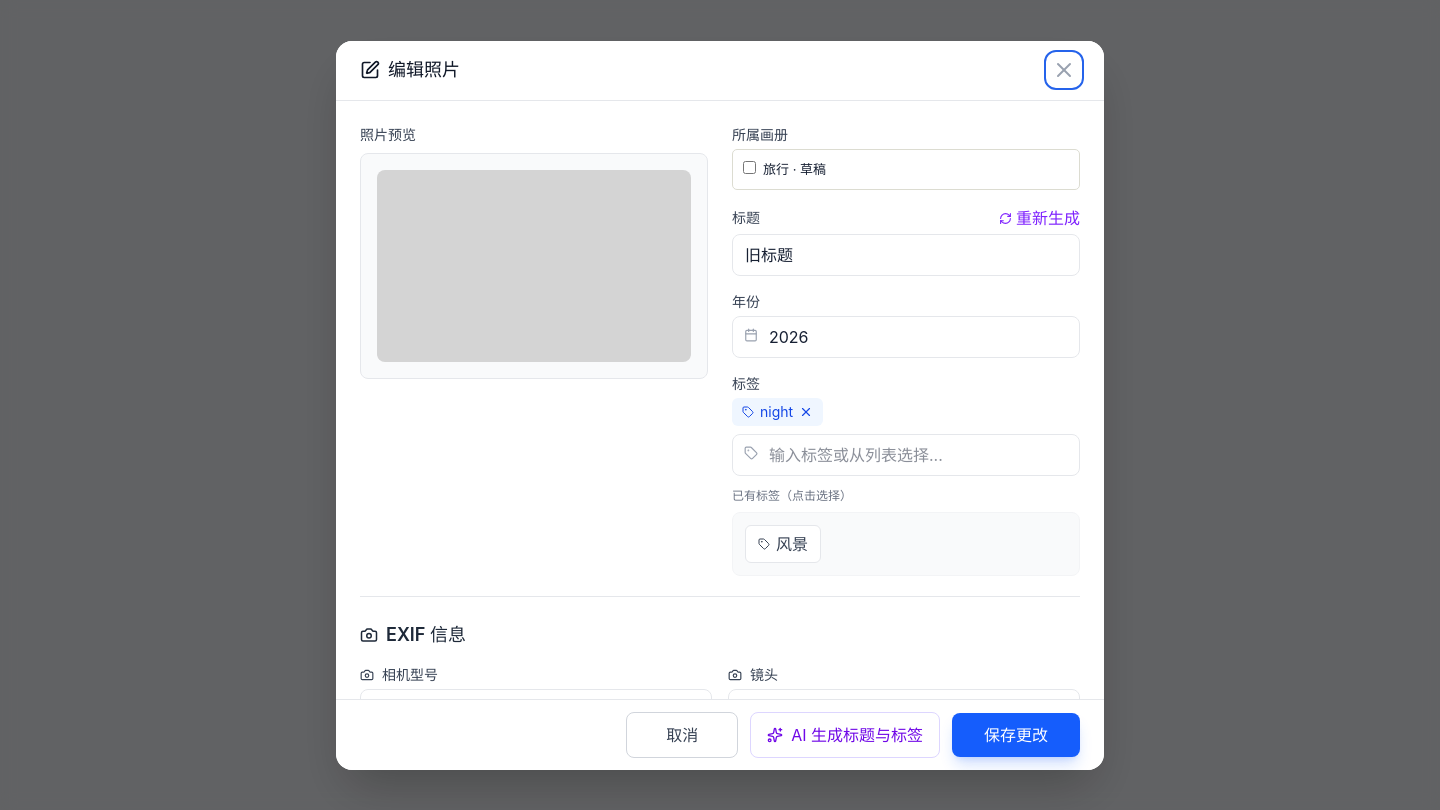
Scenario: PhotoModal edit mode › overwrites the title and merges tags without saving automatically
Step 1. Click the button "AI 生成标题与标签" → (845, 734), box [750,712,940,758]
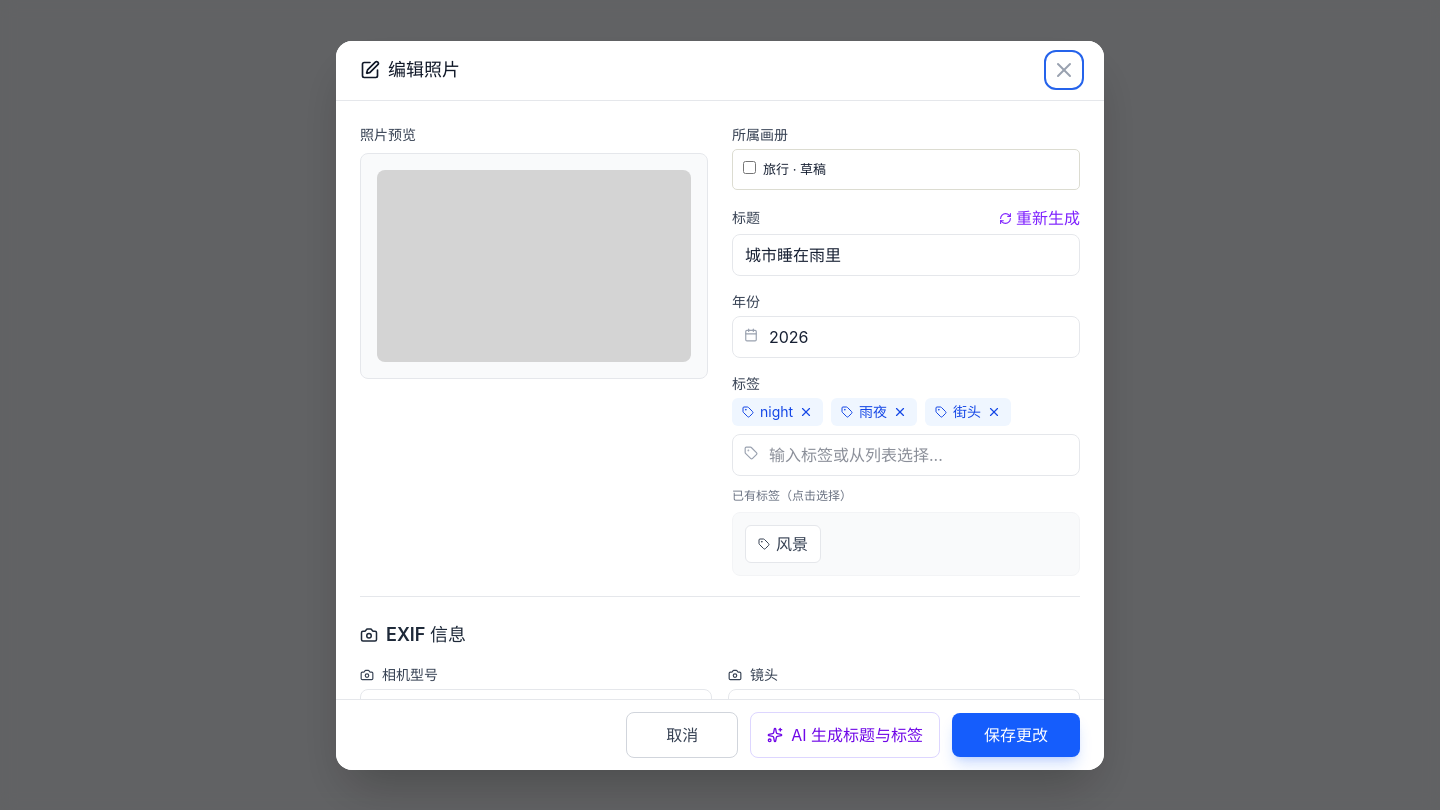
Now the field named "标题" holds "城市睡在雨里", box [732,234,1080,276]
Now the text "雨夜" is shown, box [859,402,887,422]
Now the text "街头" is shown, box [953,402,981,422]
